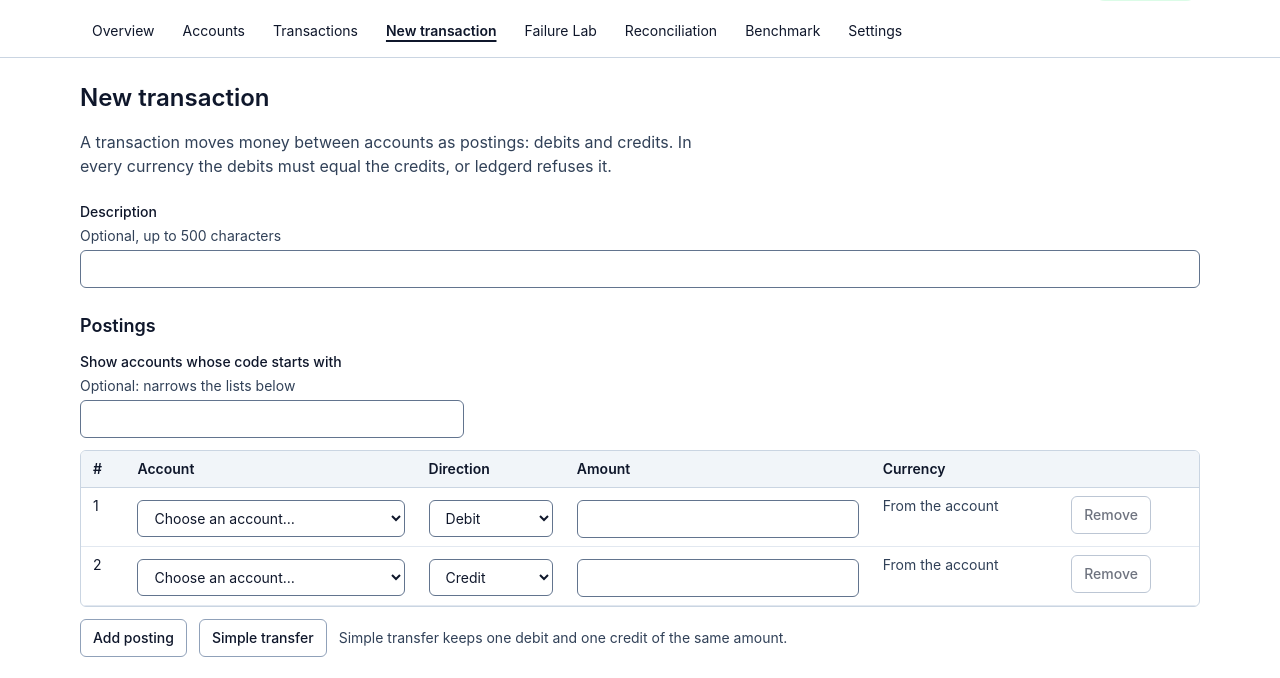
Test: the key › can be edited before sending
This screenshot has width=1280, height=678.
expect the heading "New transaction" is shown: met, box [80,82,270,114]
Select "bank (USD)" in the 1st dropdown named "Account for posting 1" at (271, 518), box [138,500,405,537]
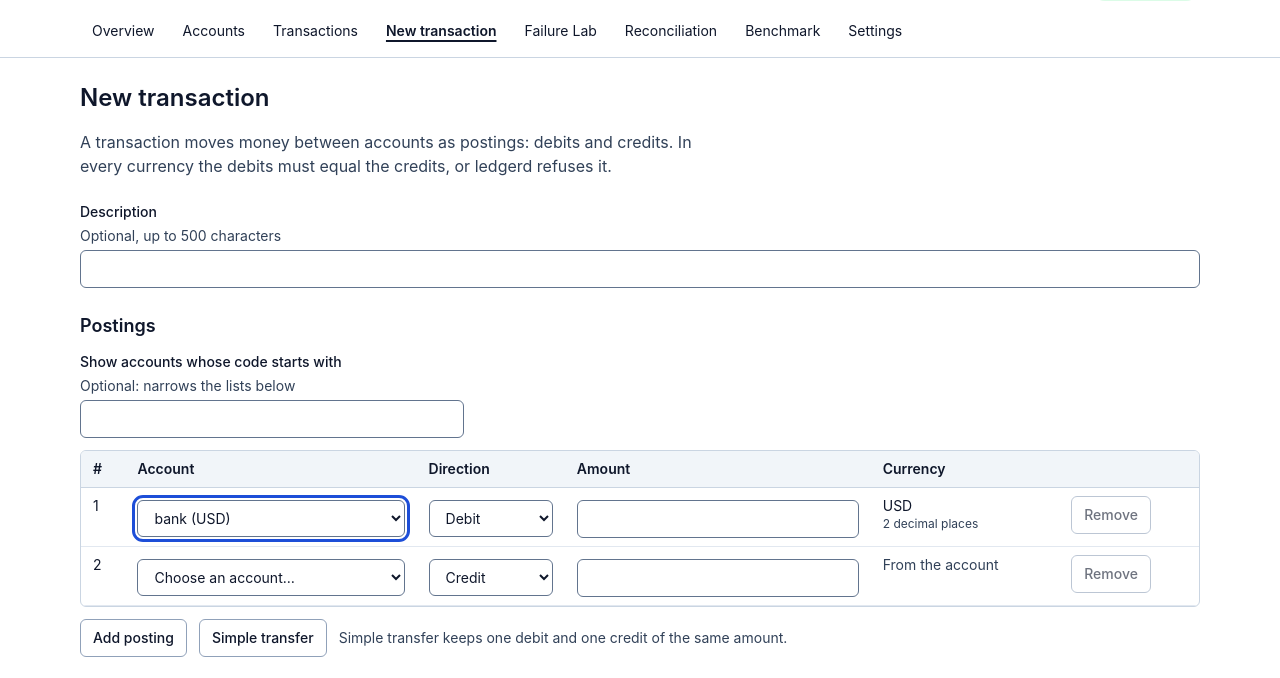
Select "wallet (USD)" in the 3rd dropdown named "Account for posting 2" at (271, 578), box [138,559,405,596]
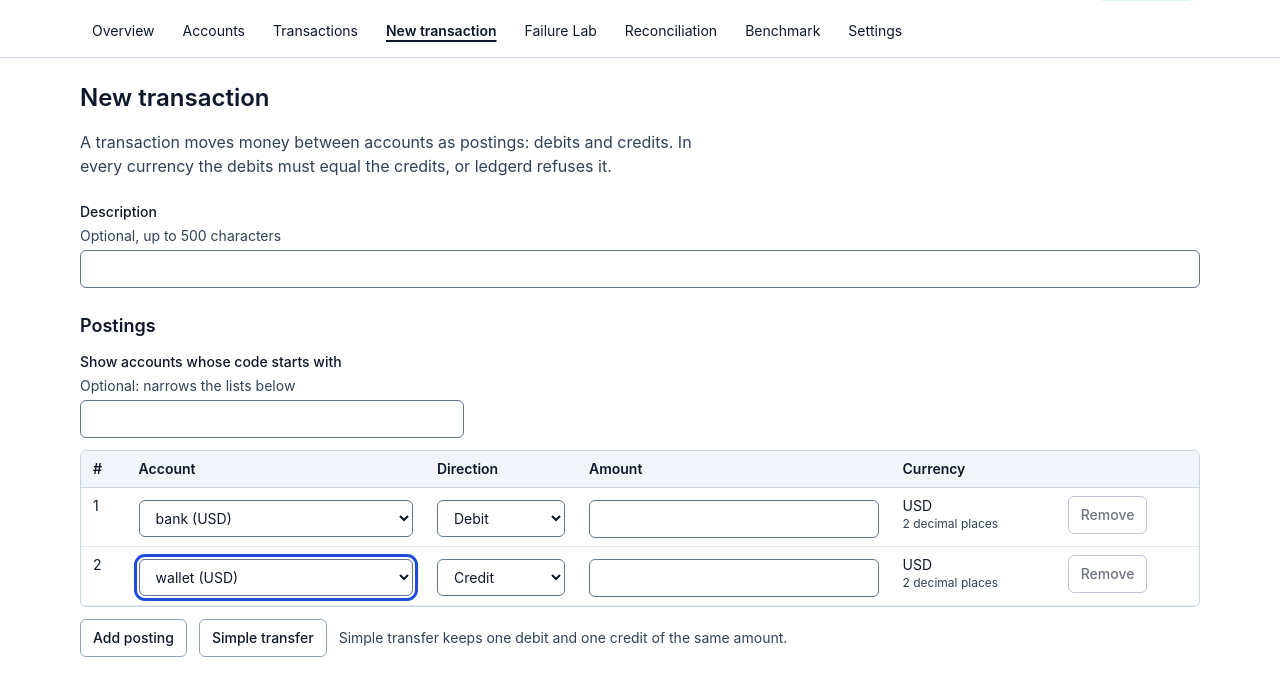
Type "100" into the 3rd field at (734, 519), box [589,500,879,538]
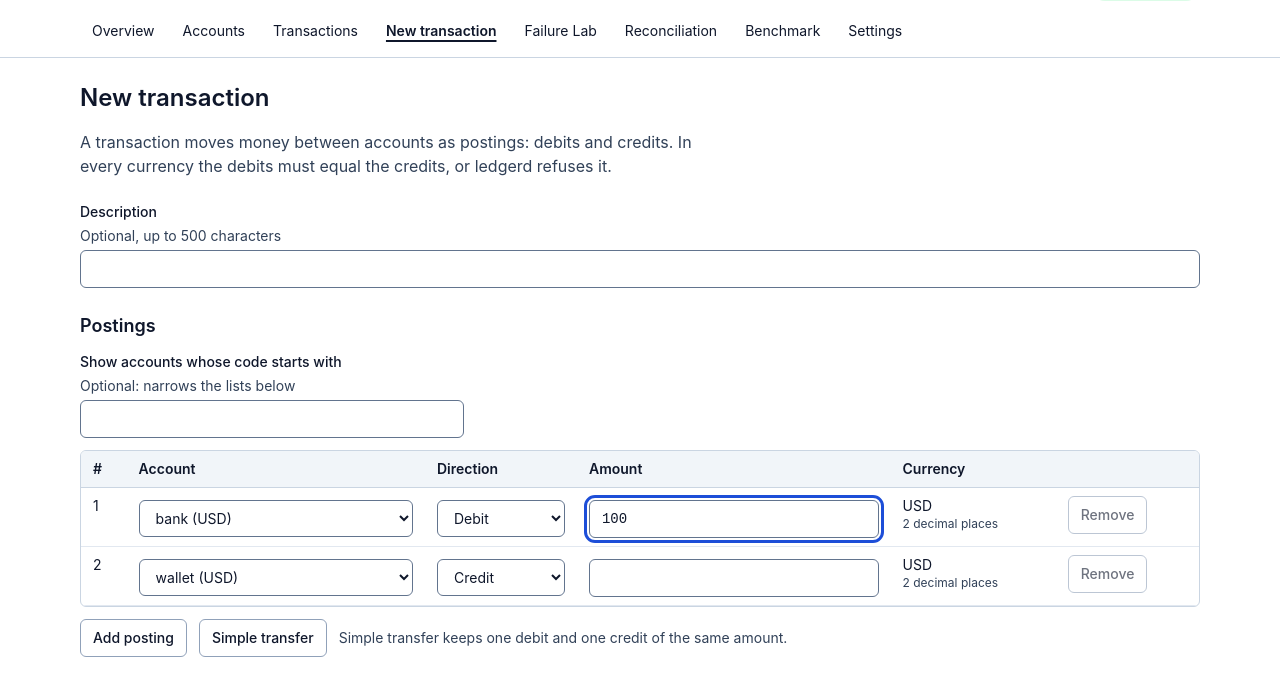
Type "100" into the 4th field at (734, 578), box [589,559,879,597]
(page scrolled)
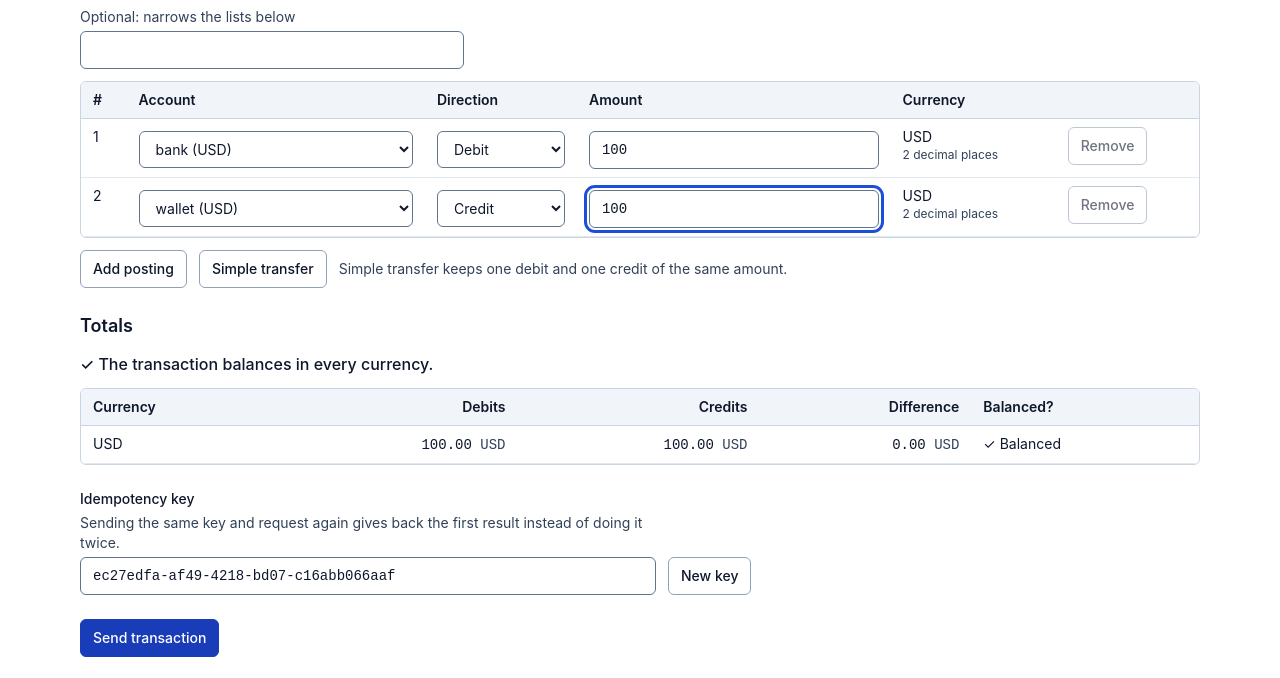
Replace the text in the field labelled "Idempotency key" with "my-own-key-1" at (368, 576), box [80,557,656,595]
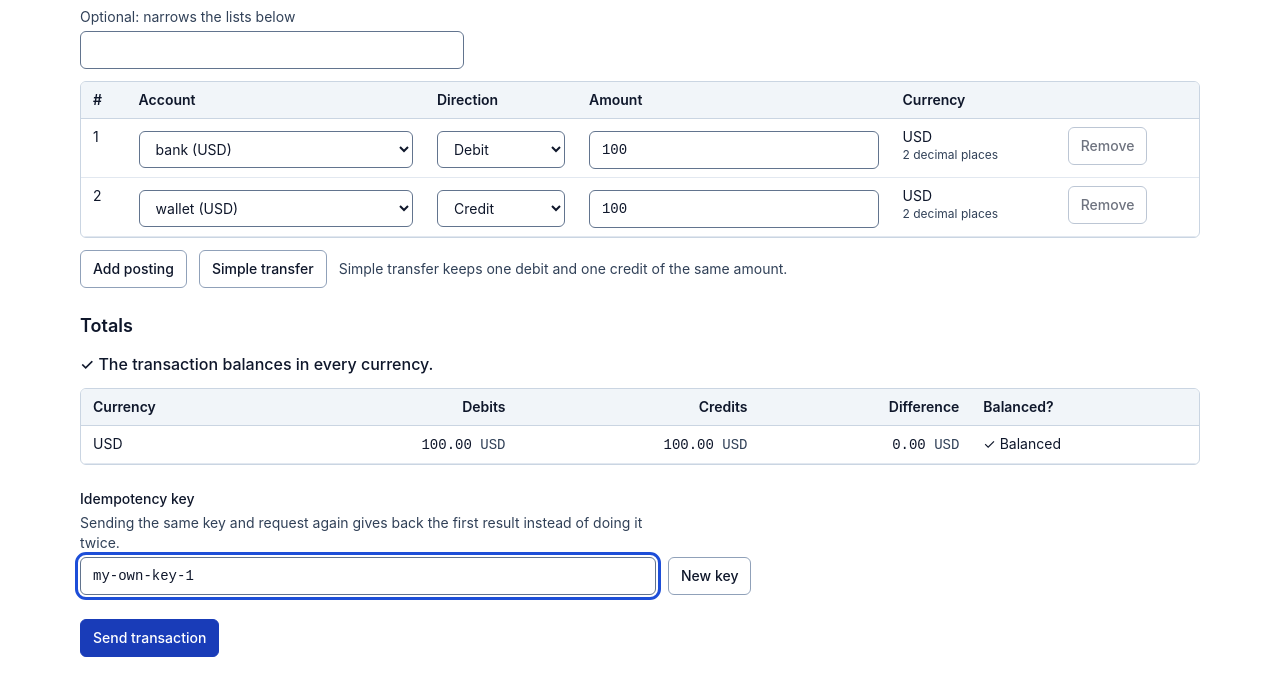
Click the button "Send transaction" at (150, 638), box [80,619,219,657]
(page scrolled)
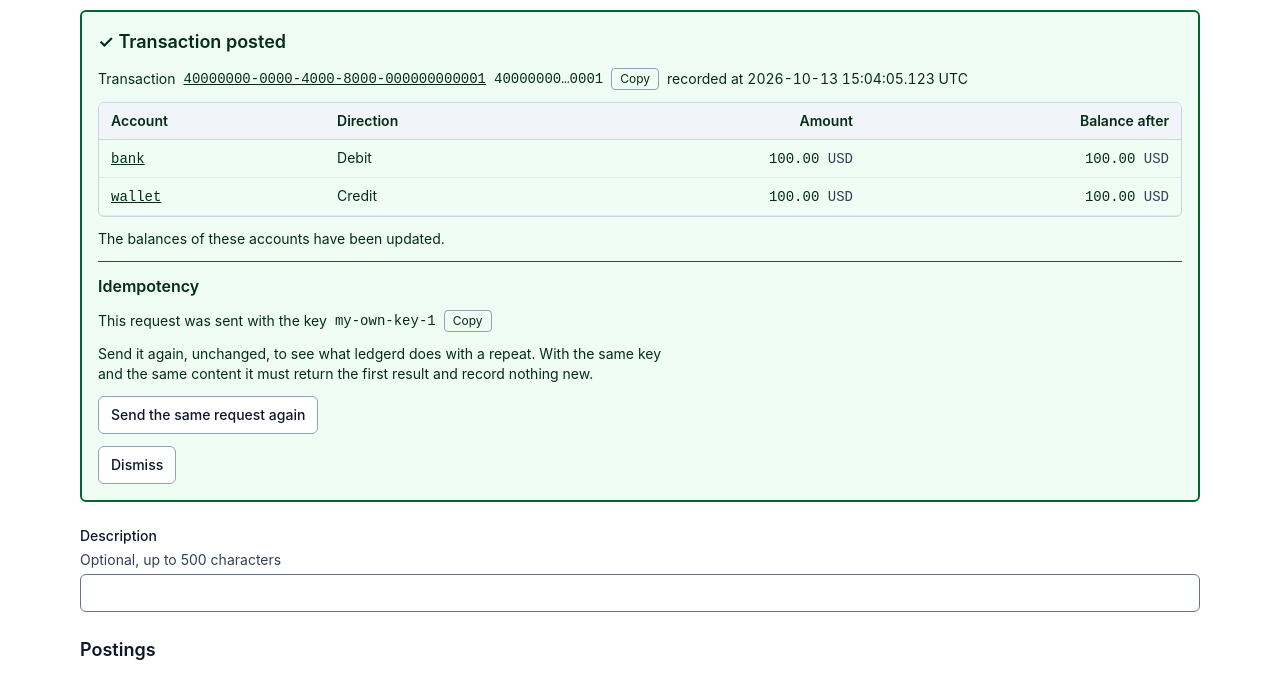
expect the text "my-own-key-1" is shown: met, box [335,313,436,329]
